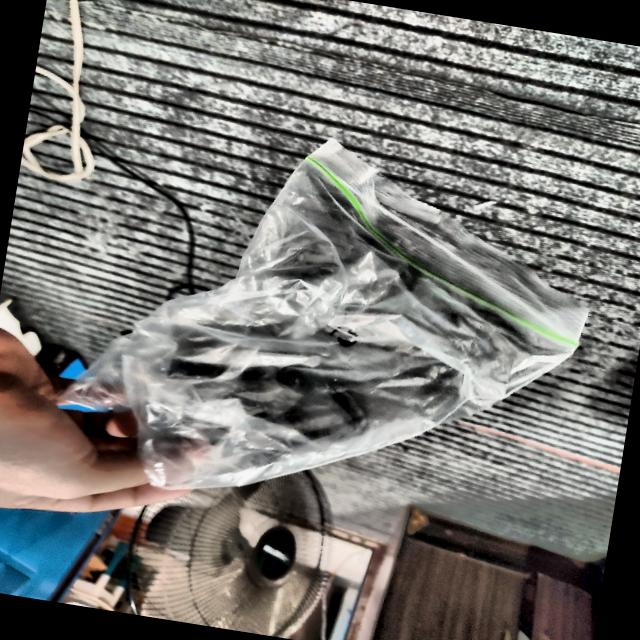plastic bag: (61, 140, 586, 490)
